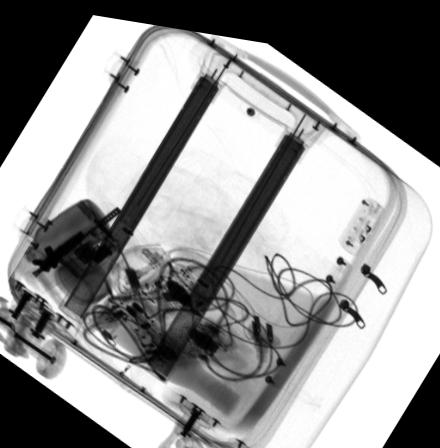Gun: (30, 200, 126, 276)
